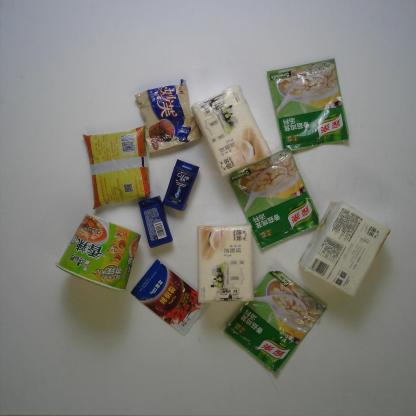Dessert: (134, 78, 201, 151)
Instant Noodles: (54, 212, 142, 291)
Personal Hygiene: (162, 157, 202, 212), (136, 193, 172, 249)
Seasoner: (221, 269, 328, 374), (226, 147, 320, 250), (266, 56, 350, 152), (130, 259, 211, 336), (82, 125, 150, 209)
Tissue: (296, 197, 390, 297), (192, 84, 272, 179), (195, 224, 257, 304)
